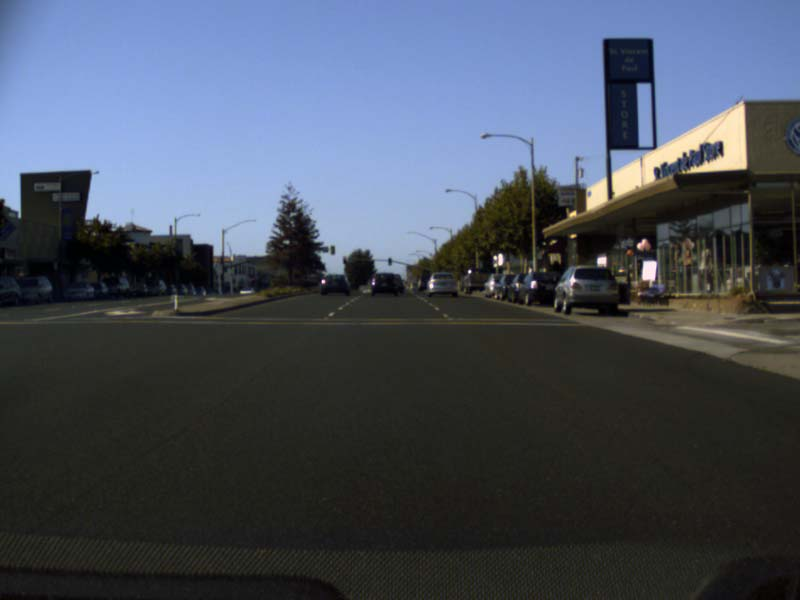Green: (387, 257, 392, 266)
Yellow: (342, 256, 345, 262)
